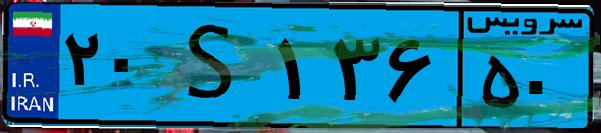0: (525, 38, 570, 115), (110, 28, 158, 98)
1: (270, 28, 330, 110)
2: (57, 26, 110, 100)
3: (330, 28, 385, 110)
5: (475, 38, 525, 113)
6: (385, 28, 445, 110)
S: (158, 12, 270, 120)
